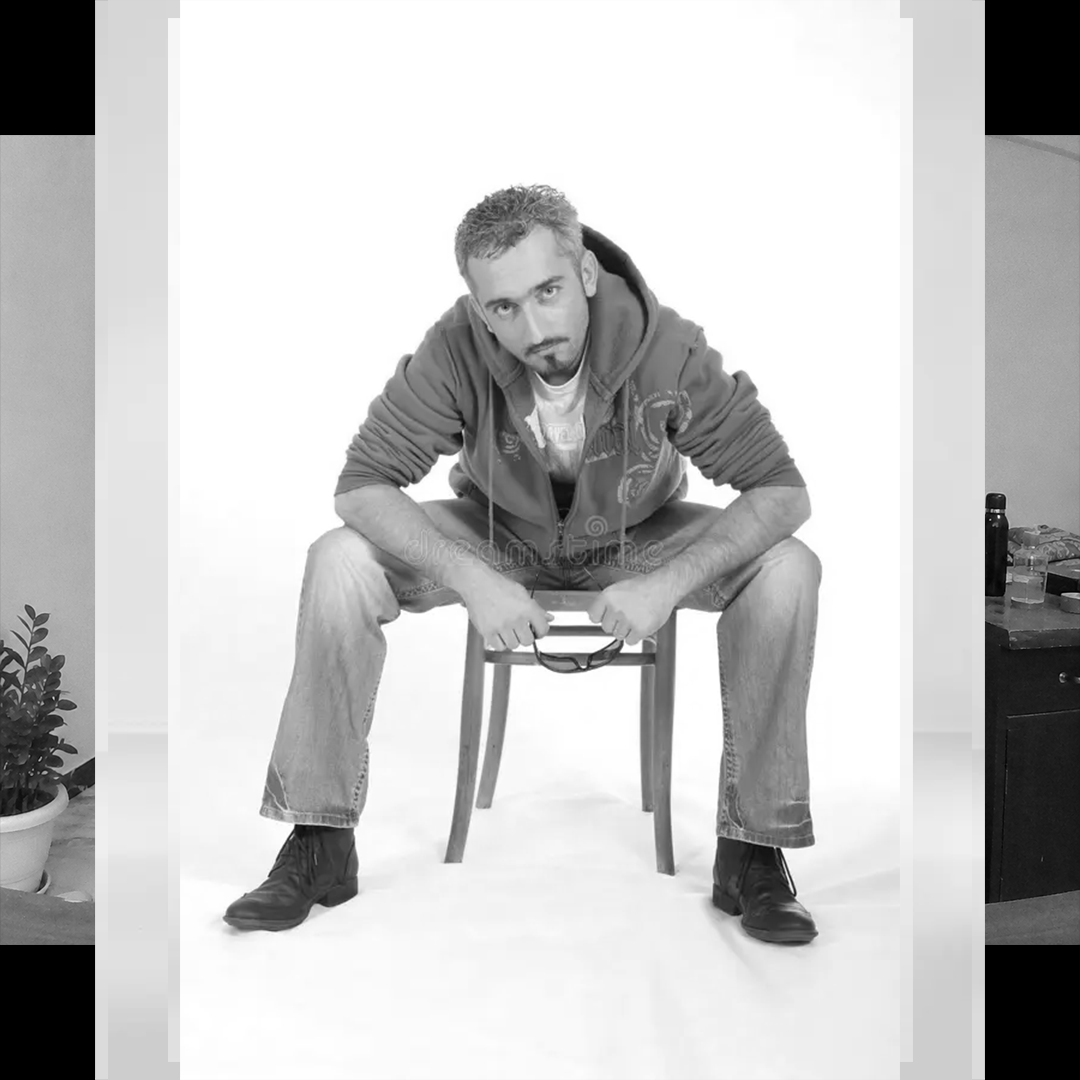Focused: (326, 119, 777, 712)
